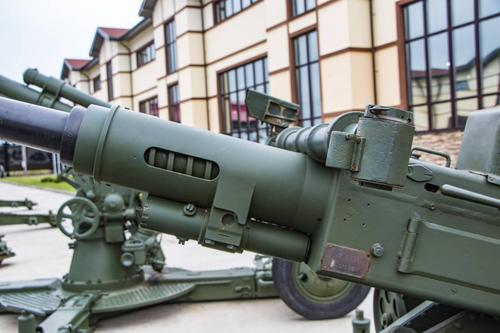MIL_SPG: (0, 70, 500, 332)
